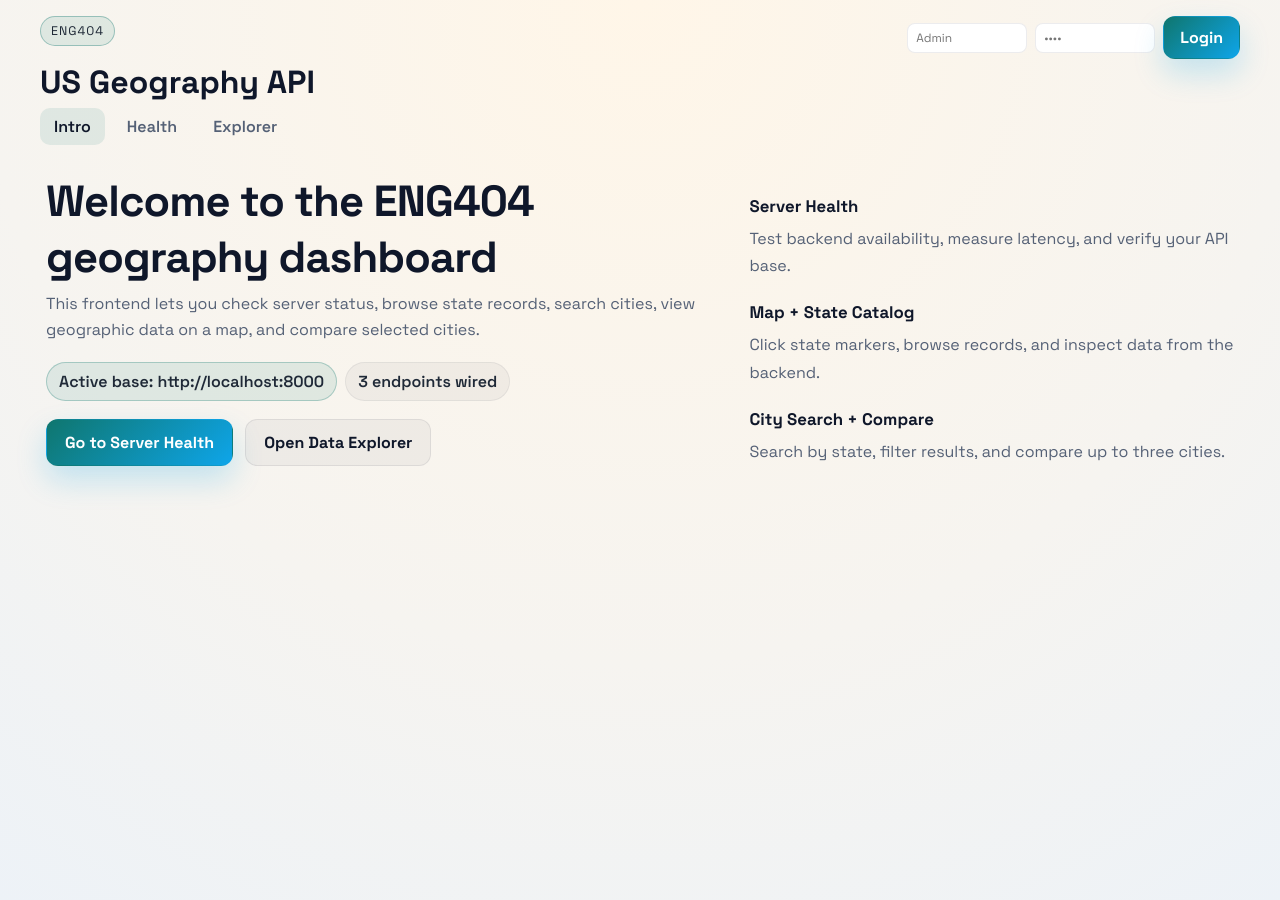
App Component › shows admin raw JSON after admin login
Type "admin@eng404.com" into the field with placeholder "Admin".
click(967, 38); type("admin@eng404.com")  # box [907, 22, 1027, 52]
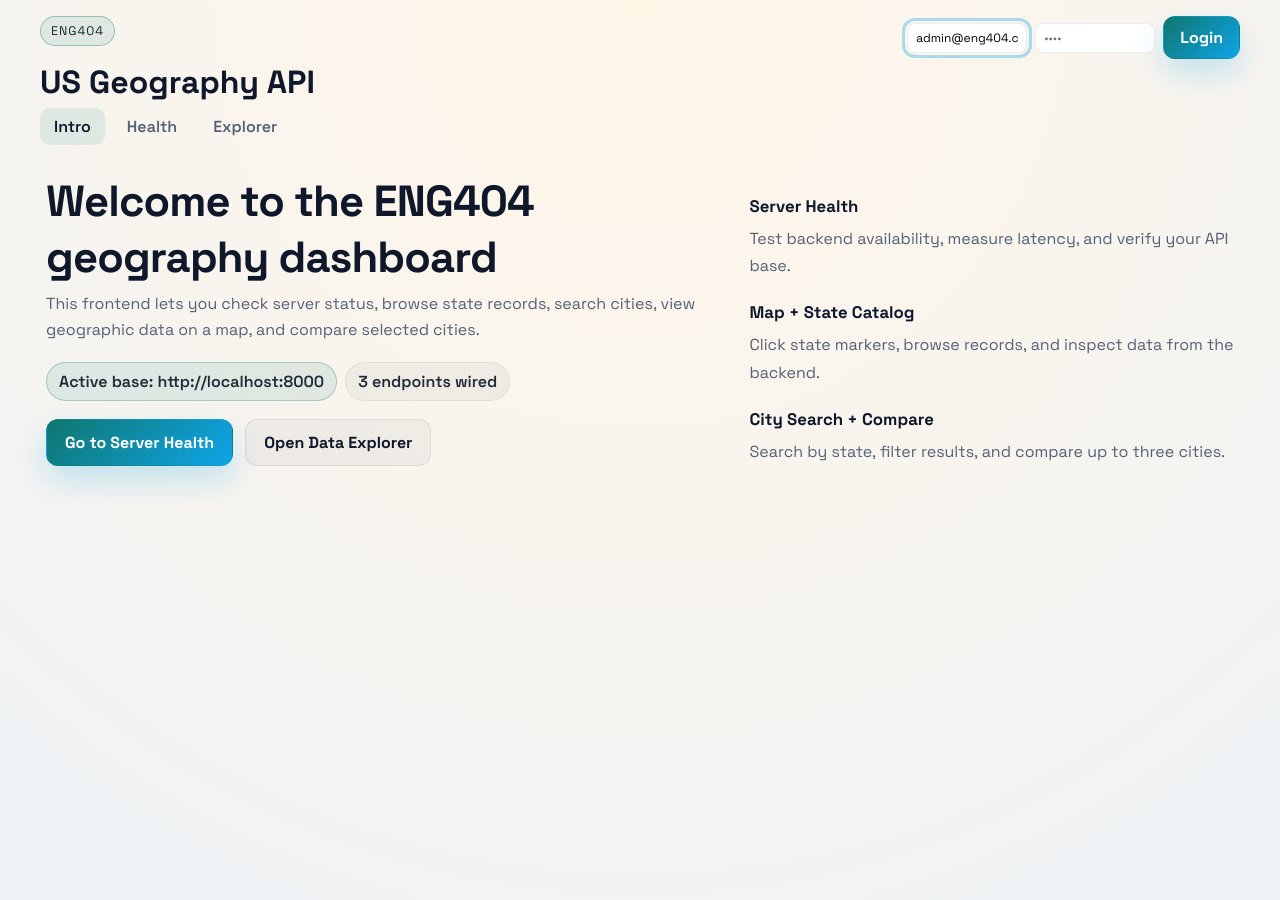
Type "eng404" into the password field with placeholder "••••".
click(1095, 38); type("eng404")  # box [1035, 22, 1155, 52]
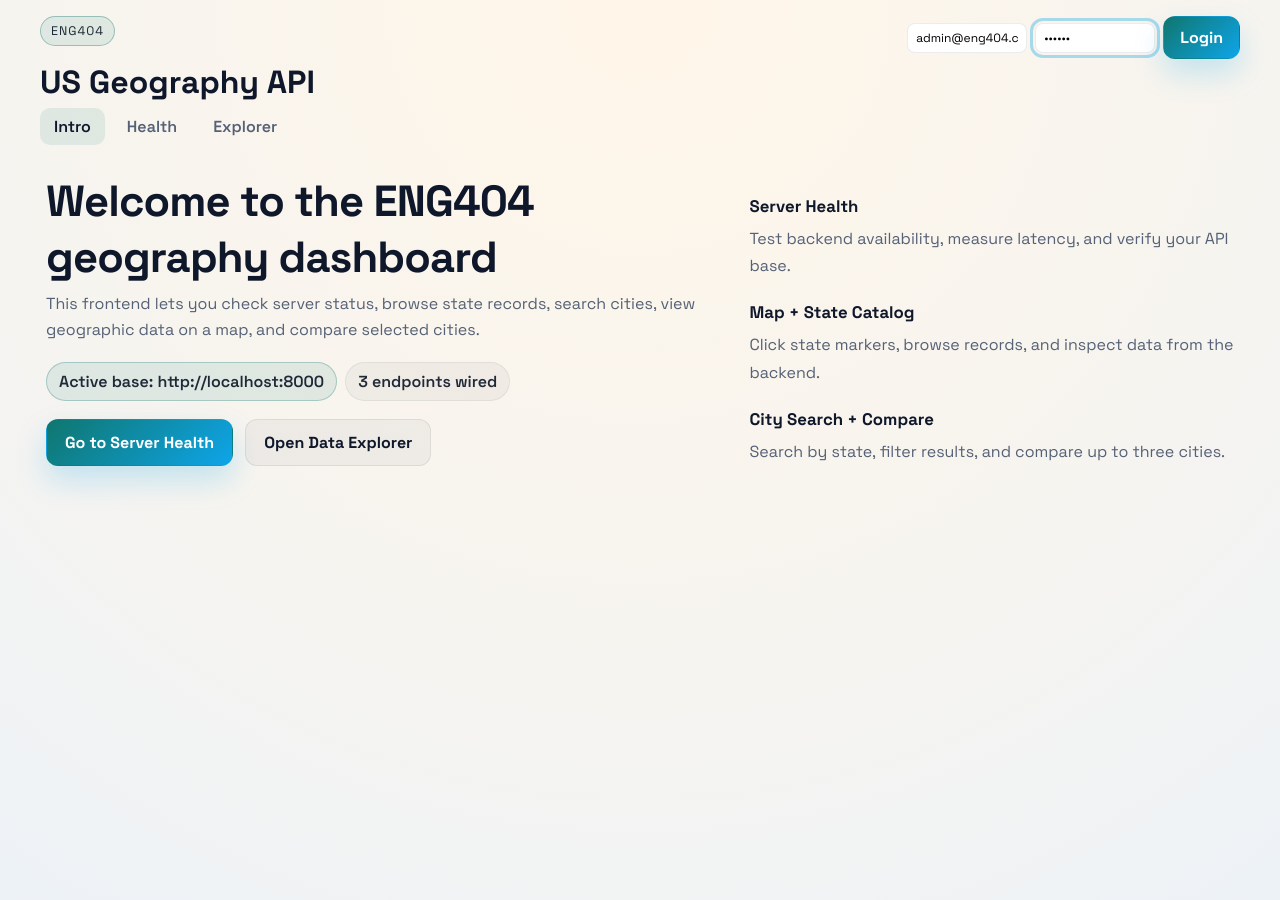
Click the button "Login".
click(1202, 38)  # box [1163, 16, 1240, 59]
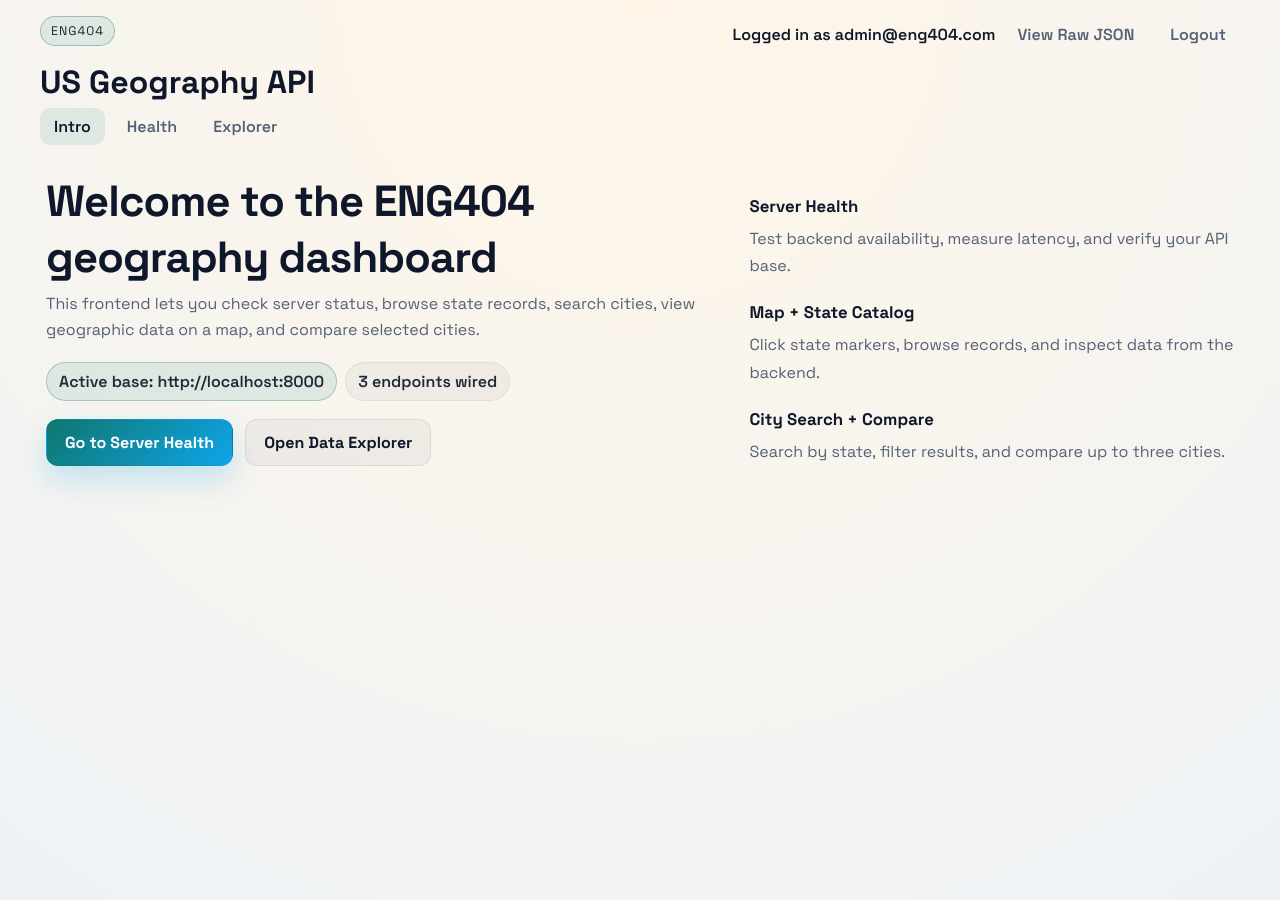
Now the text "Logged in as admin@eng404.com" is shown, box [733, 24, 996, 45]
Click the button "View Raw JSON".
click(1076, 34)  # box [1004, 16, 1148, 53]
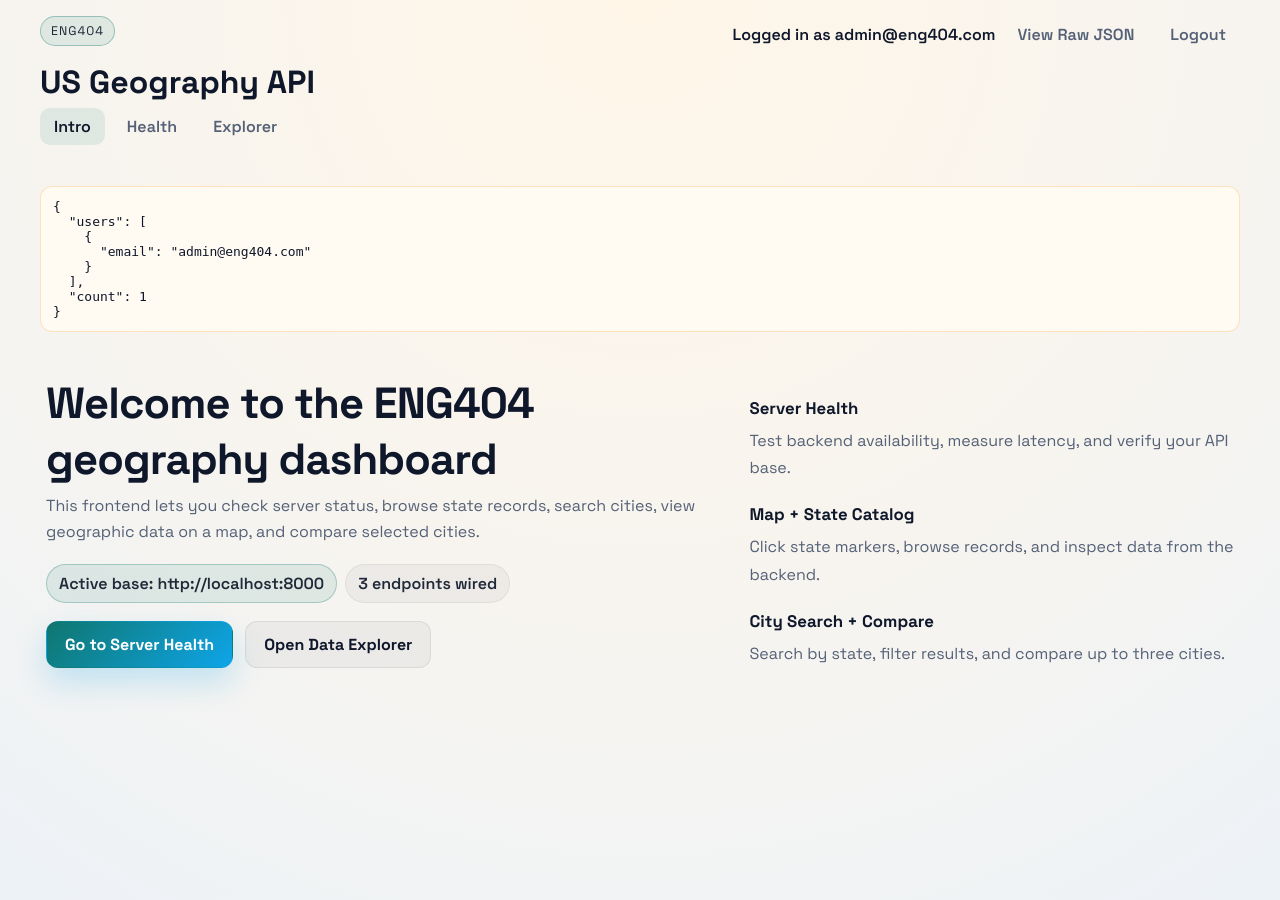
Now the text "{ \"users\": [ { \"email\": \"admin@eng404.com\" } ], \"count\": 1 }" is shown, box [40, 186, 1240, 332]
